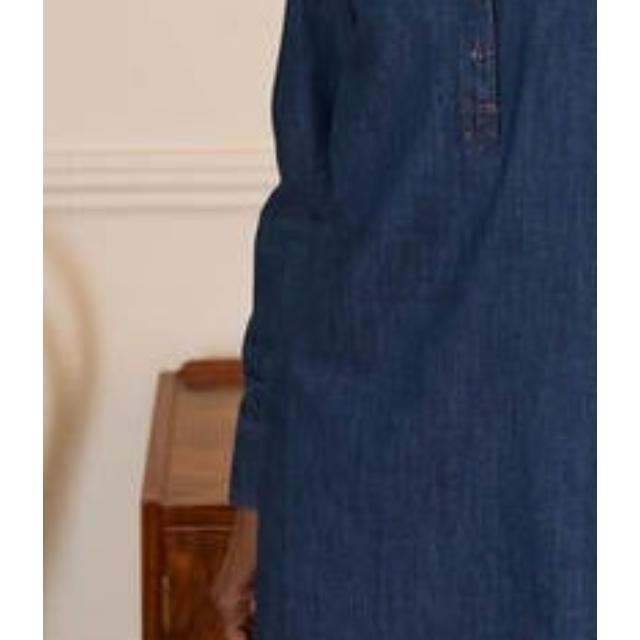denim: (280, 0, 598, 640)
